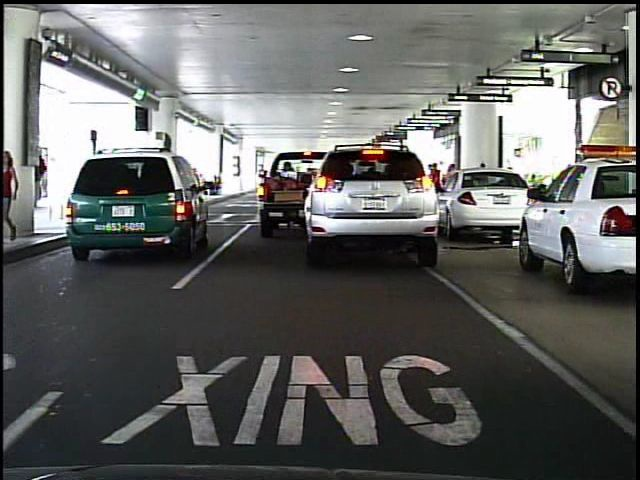person: (4, 149, 27, 248)
